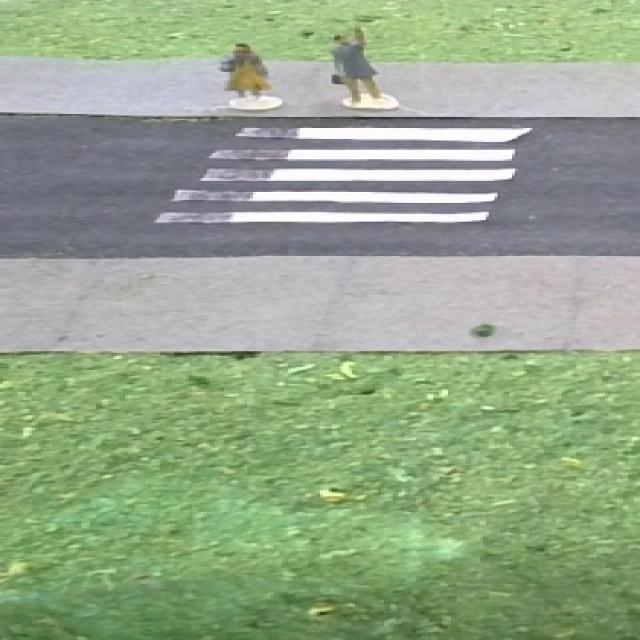person: (322, 24, 399, 108), (223, 44, 276, 108)
